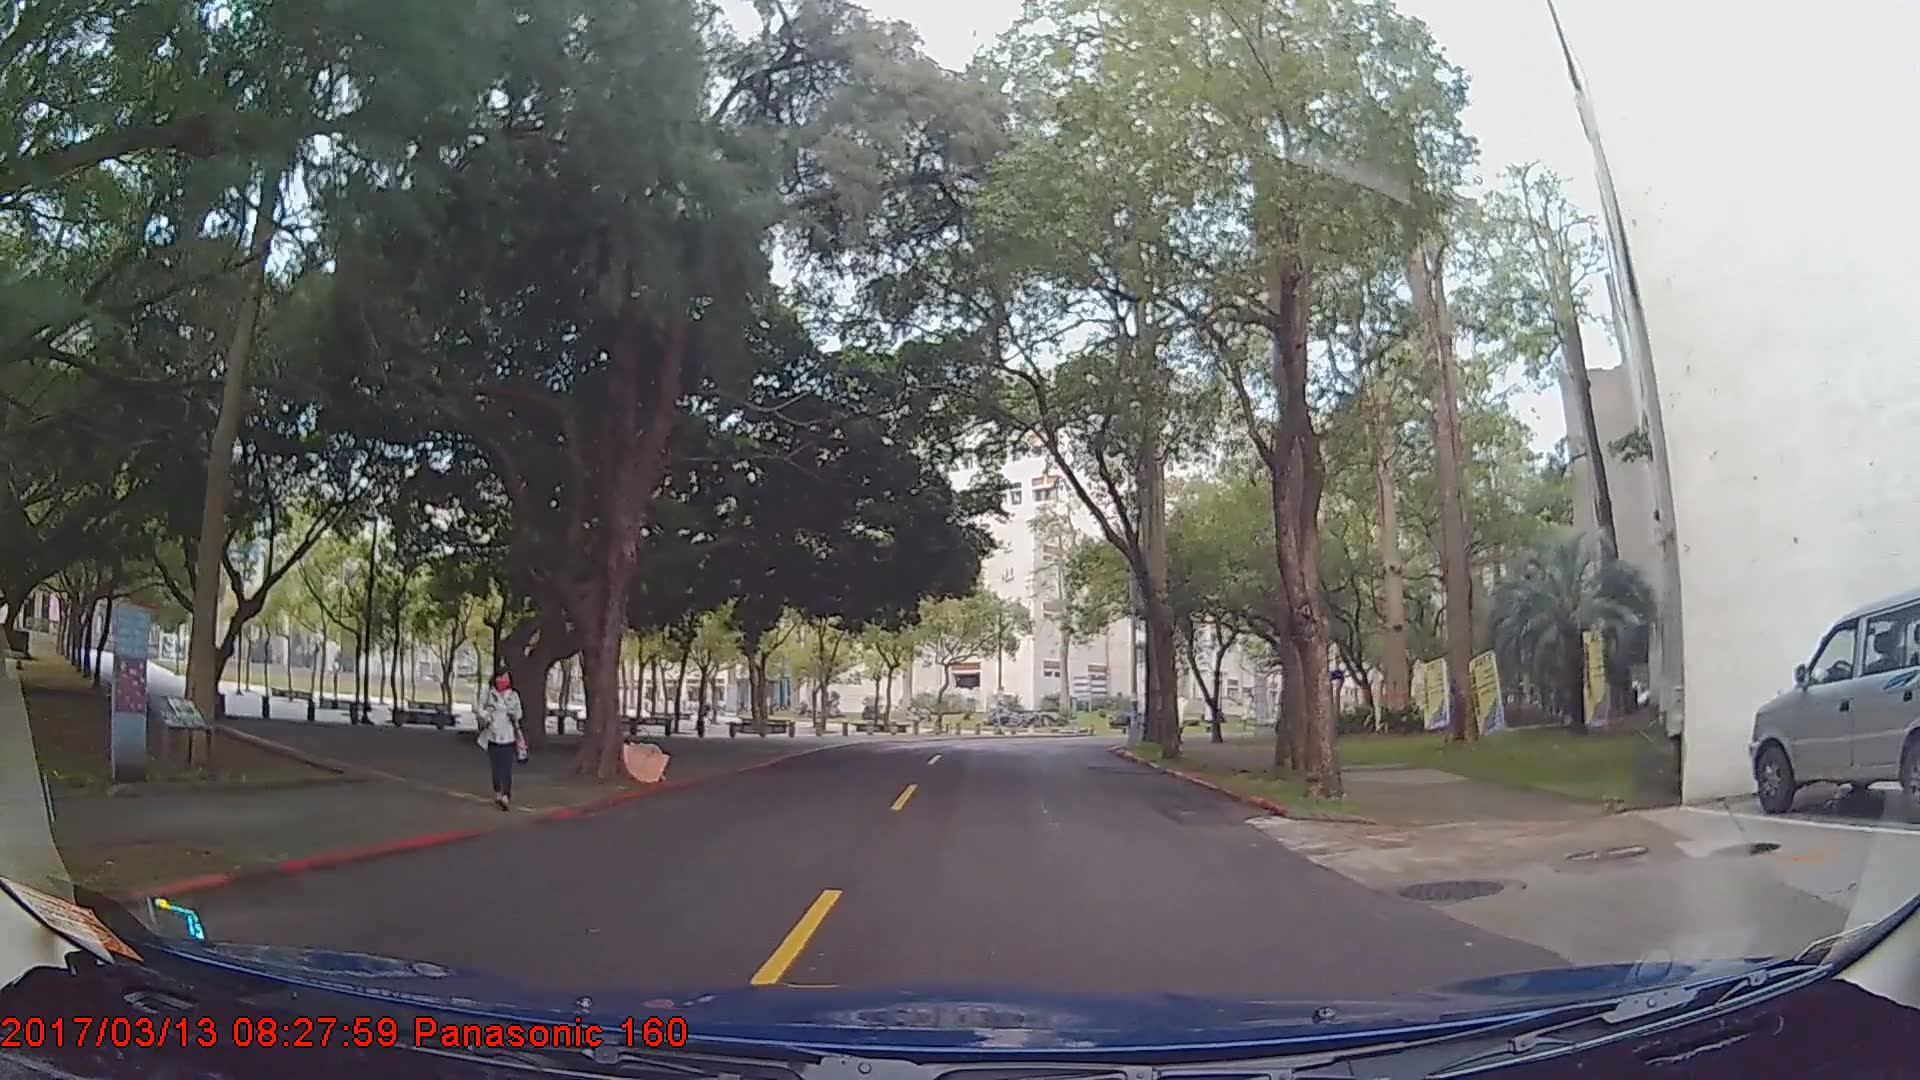pedestrian: (472, 663, 533, 807)
vehicle: (1750, 588, 1920, 819)
